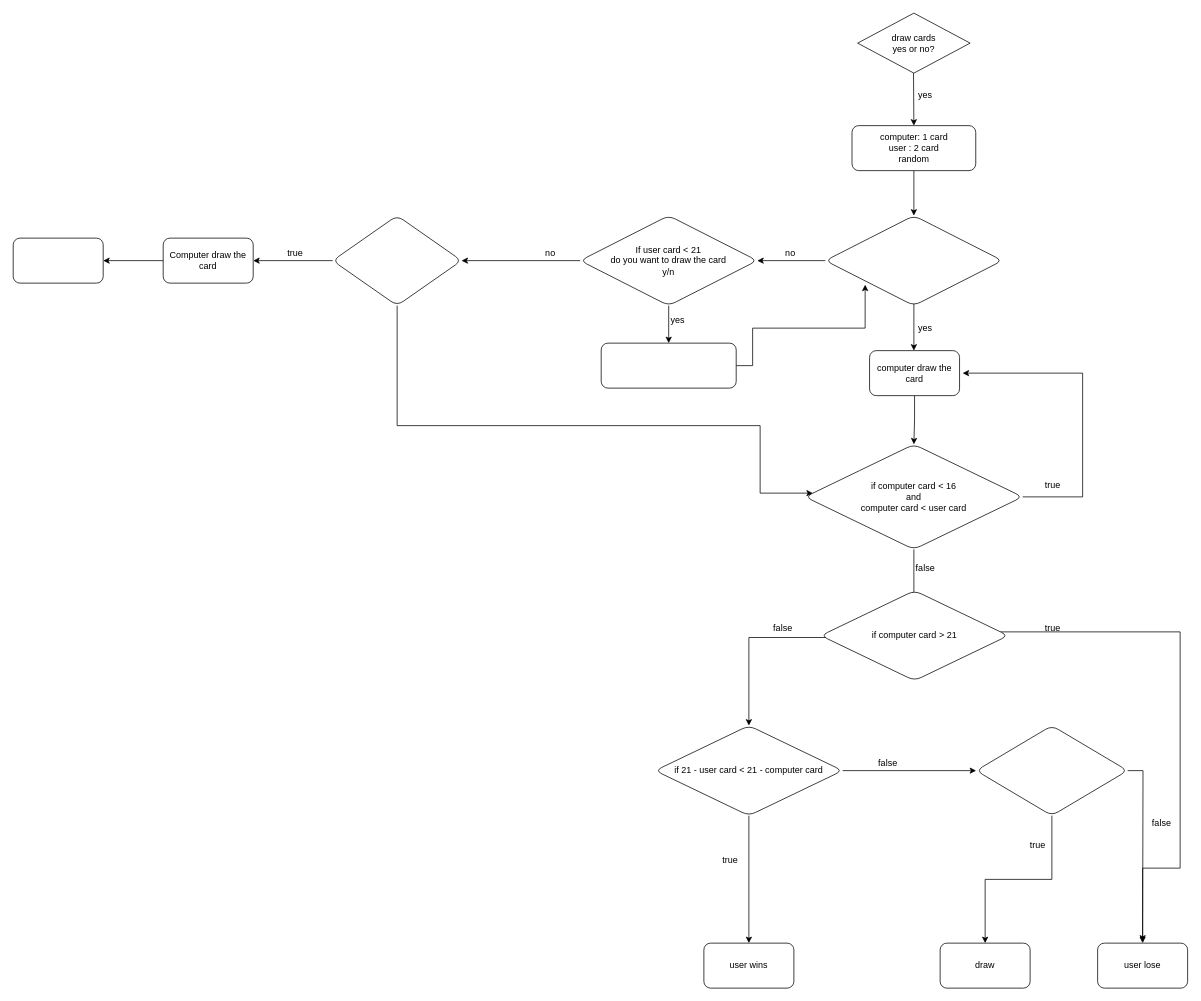
Image size: 1201x1001. Some labels were removed from this diagram. The shapes that lost their labels are listed below. From the top down, each one's box as (x1, y1, x2, y2) in pixels, then its label:
(12, 237, 103, 283): player lose
(332, 215, 462, 306): user card > 21
(825, 215, 1002, 306): If user card == 21
(600, 342, 736, 388): user draws the card
(975, 725, 1128, 816): elif user card == computer card
